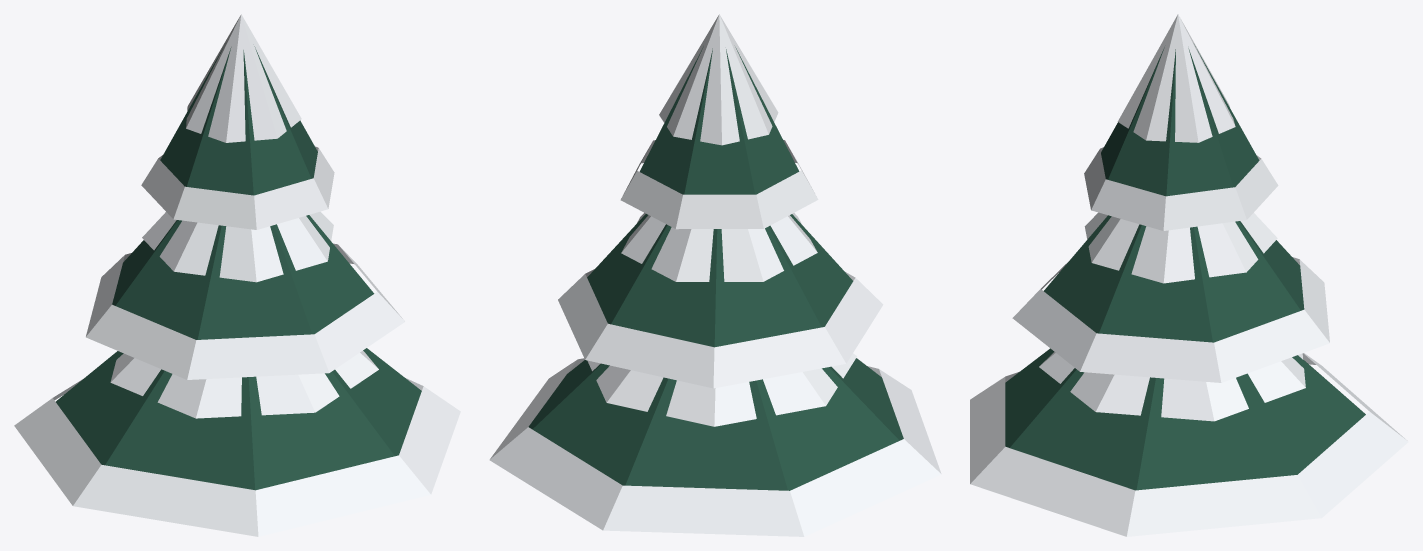
The model's file is pine-a.glb.
The picture shows the model from 3 angles, left to right: view 1: azimuth 30°, elevation 25°; view 2: azimuth 150°, elevation 25°; view 3: azimuth 270°, elevation 25°; orthographic projection.
Parts seen in each view (by area): view 1: pine-a; view 2: pine-a; view 3: pine-a.
Boxes of the visible parts, box(x1,y1,x2,y2) form: pine-a: box(14, 14, 460, 536); pine-a: box(489, 14, 941, 536); pine-a: box(970, 14, 1408, 536).
Size of the model in its own units: 5.89 by 7.17 by 5.74.
